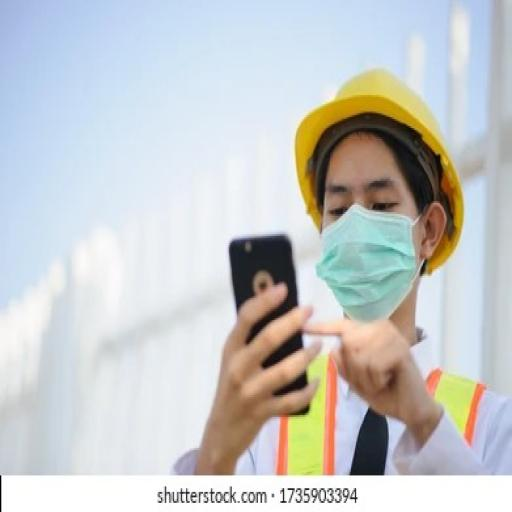mask: (310, 203, 424, 330)
